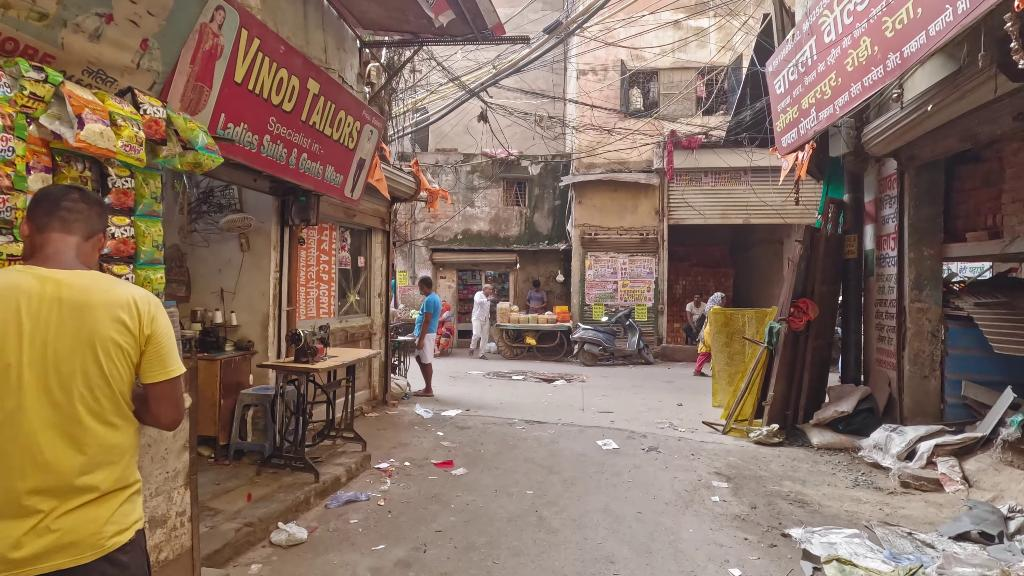garbage: (64, 90, 120, 156), (133, 164, 165, 217), (323, 487, 372, 510), (271, 520, 309, 548), (413, 403, 434, 419), (556, 270, 566, 282)
